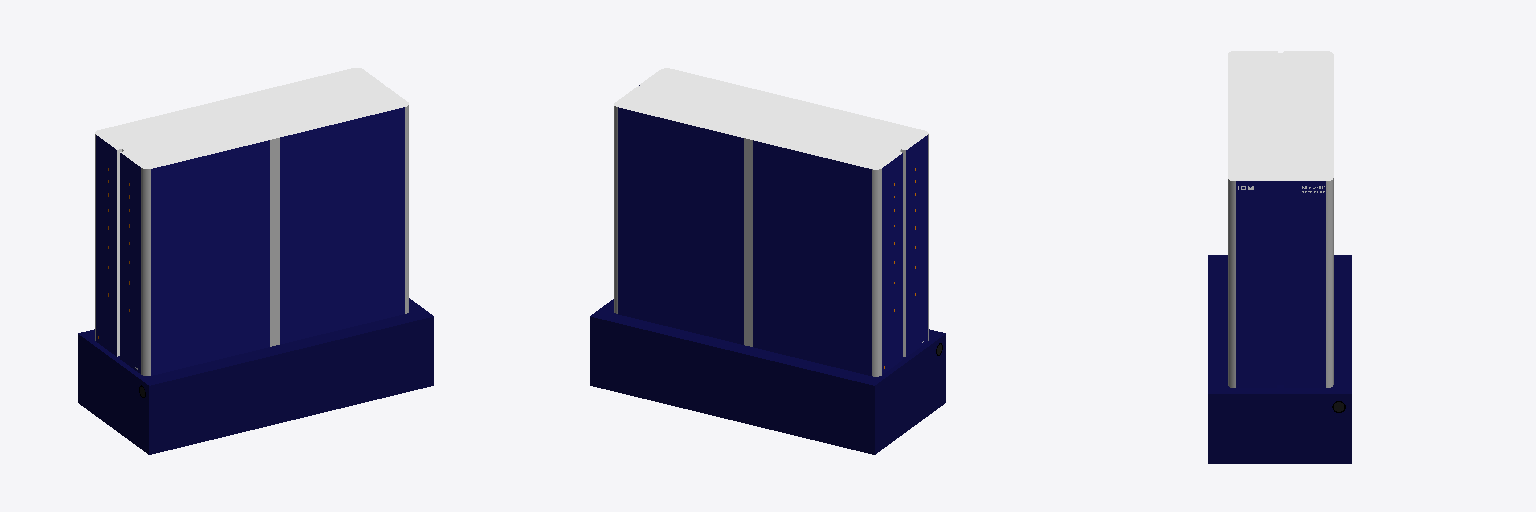
Rendered from IBM_RS6000_Deep_Blue.obj.
The picture shows the model from 3 angles: view 1: azimuth 30°, elevation 25°; view 2: azimuth 150°, elevation 25°; view 3: azimuth 270°, elevation 25°; orthographic projection.
Parts seen in each view (by area): view 1: Mesh23 Model; view 2: Mesh23 Model; view 3: Mesh23 Model.
Part boxes in pixels (left/top/right/bottom): Mesh23 Model: left=78, top=68, right=433, bottom=454; Mesh23 Model: left=590, top=68, right=945, bottom=454; Mesh23 Model: left=1208, top=51, right=1351, bottom=463.
Bounding box in the file's own units: 85.5 × 79.18 × 37.25.